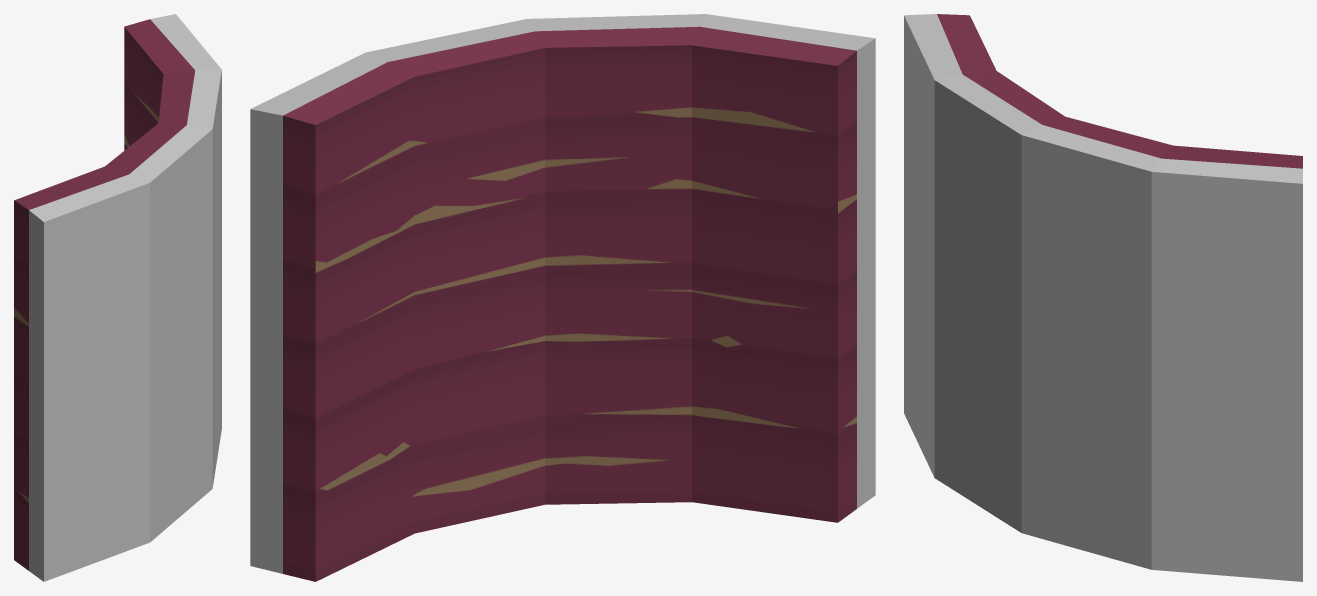
The model's file is SM_Bld_Wall_Curved_S_Half_01.fbx.
3 views of the same model, side by side, from view 1: azimuth 30°, elevation 25°; view 2: azimuth 150°, elevation 25°; view 3: azimuth 270°, elevation 25° (orthographic). The views are drawn at different scales.
Parts seen in each view (by area): view 1: SM_Bld_Wall_Curved_S_Half_01; view 2: SM_Bld_Wall_Curved_S_Half_01; view 3: SM_Bld_Wall_Curved_S_Half_01.
Part boxes in pixels (x1,y1,x2,y2): SM_Bld_Wall_Curved_S_Half_01: [14, 14, 221, 581]; SM_Bld_Wall_Curved_S_Half_01: [250, 14, 875, 581]; SM_Bld_Wall_Curved_S_Half_01: [904, 14, 1302, 581].
Bounding box in the file's own units: 136 × 150 × 136.
